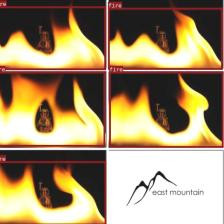fire: (109, 72, 223, 148), (0, 71, 105, 146), (108, 7, 222, 70), (0, 5, 105, 69), (0, 161, 106, 224)
